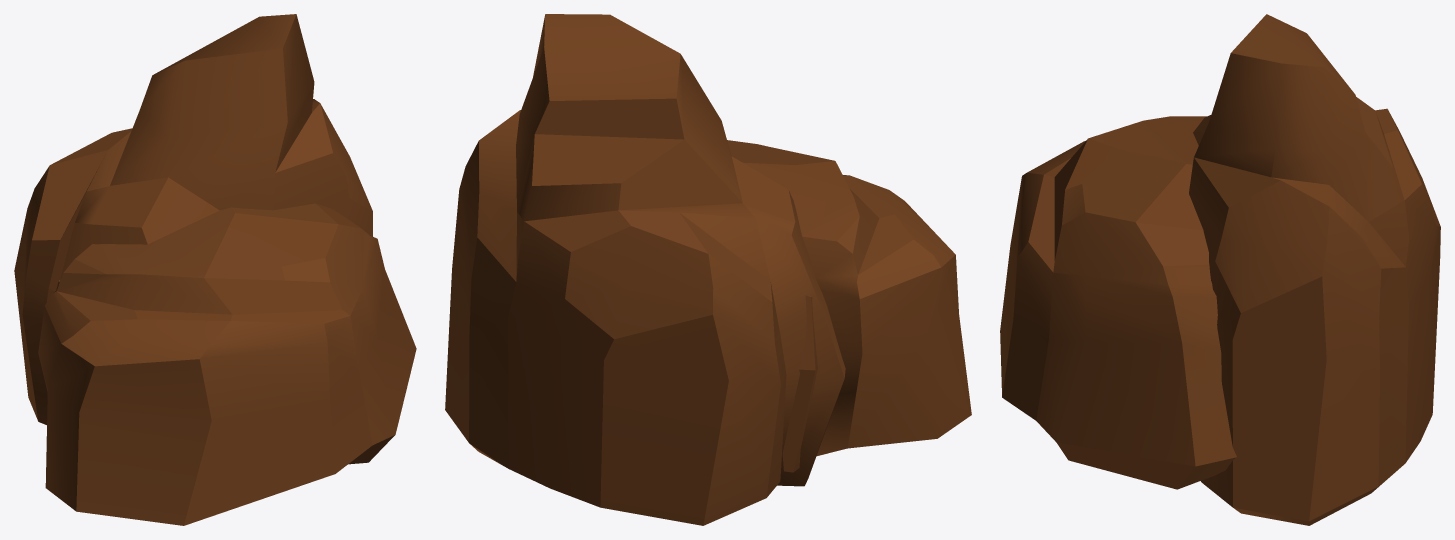
File: rock-large-2.glb
3 views of the same model, side by side, from view 1: azimuth 30°, elevation 25°; view 2: azimuth 150°, elevation 25°; view 3: azimuth 270°, elevation 25° (orthographic). The views are drawn at different scales.
Visible parts, largest first — view 1: Rock_Large_2; view 2: Rock_Large_2; view 3: Rock_Large_2.
Part boxes in pixels (bbox=[...]): Rock_Large_2: bbox=[14, 14, 416, 525]; Rock_Large_2: bbox=[445, 14, 971, 525]; Rock_Large_2: bbox=[1000, 14, 1440, 525].
Bounding box in the file's own units: 8.54 × 8.21 × 7.62.
